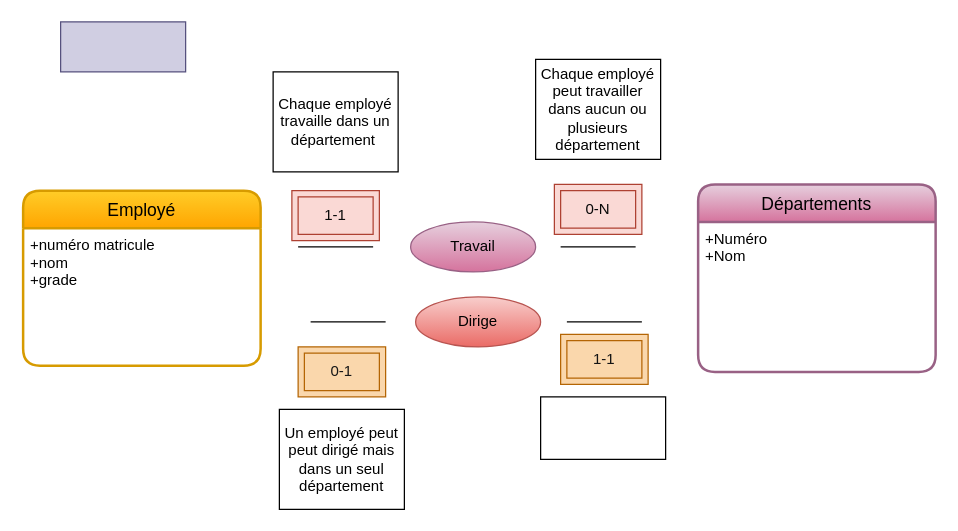
This 958x531 diagram has some shape labels left out. Each missing label, with the centre of its shape:
"Modèle entité!!!" goes at point (122, 46).
"Un employé qui dirige un département" goes at point (602, 427).
